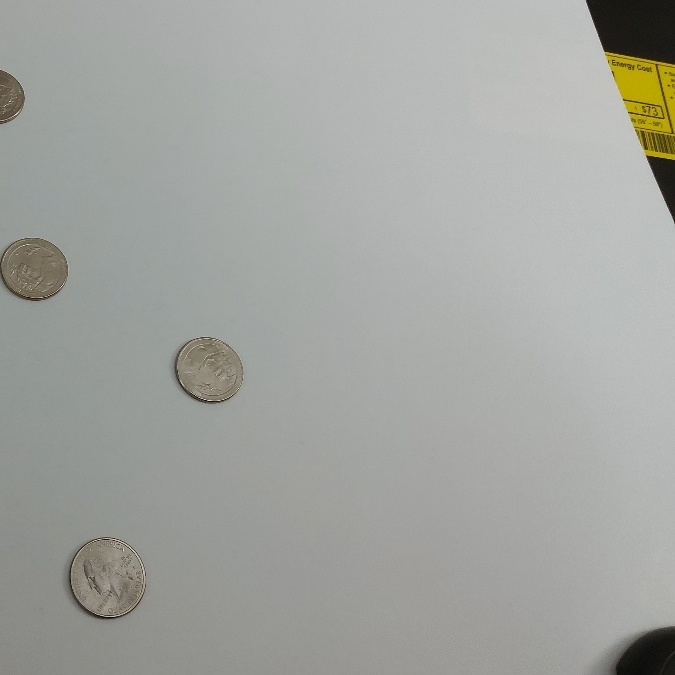coin_quarter: (62, 538, 154, 625), (172, 333, 251, 403)
